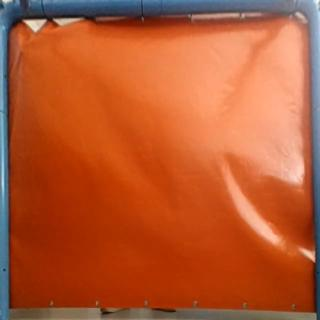Hit-hRxx: (16, 44, 30, 60)
